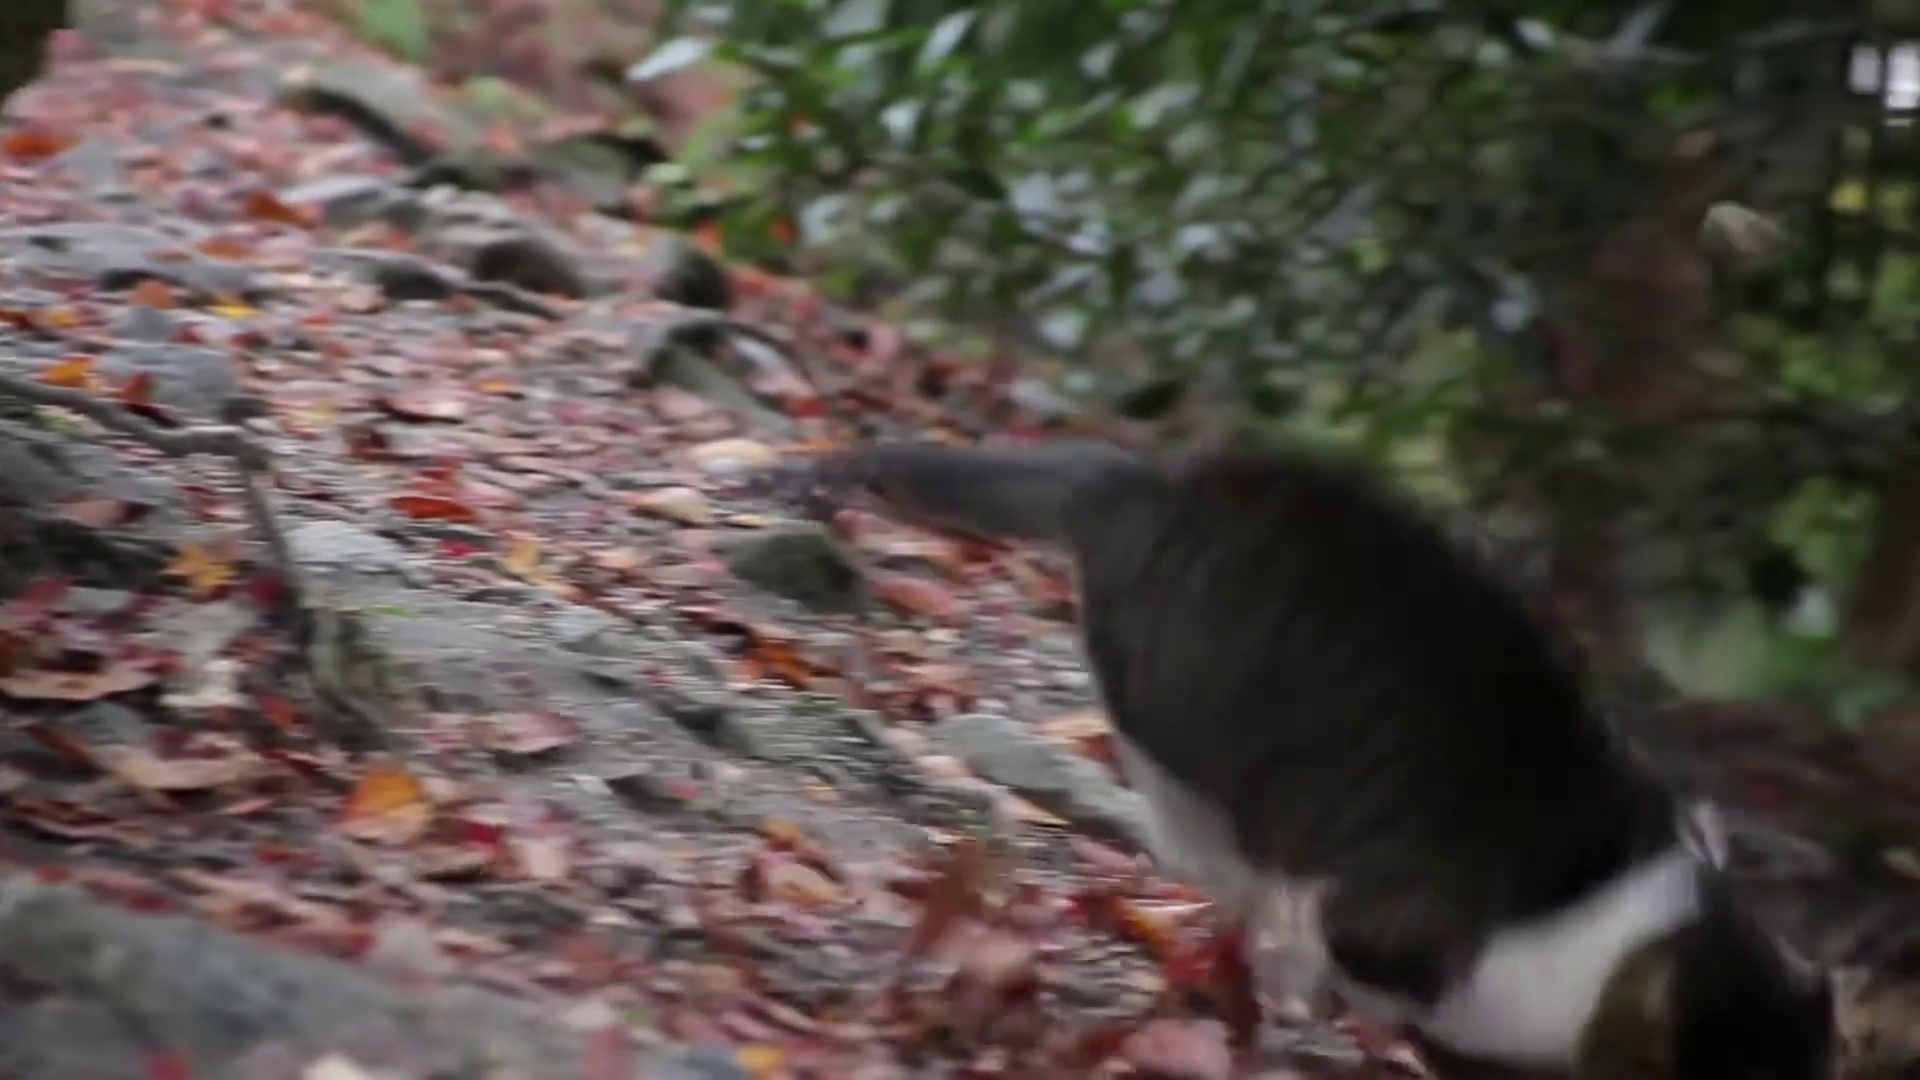black-white: (1084, 443, 1836, 1080)
pure black: (1654, 808, 1920, 1080)
